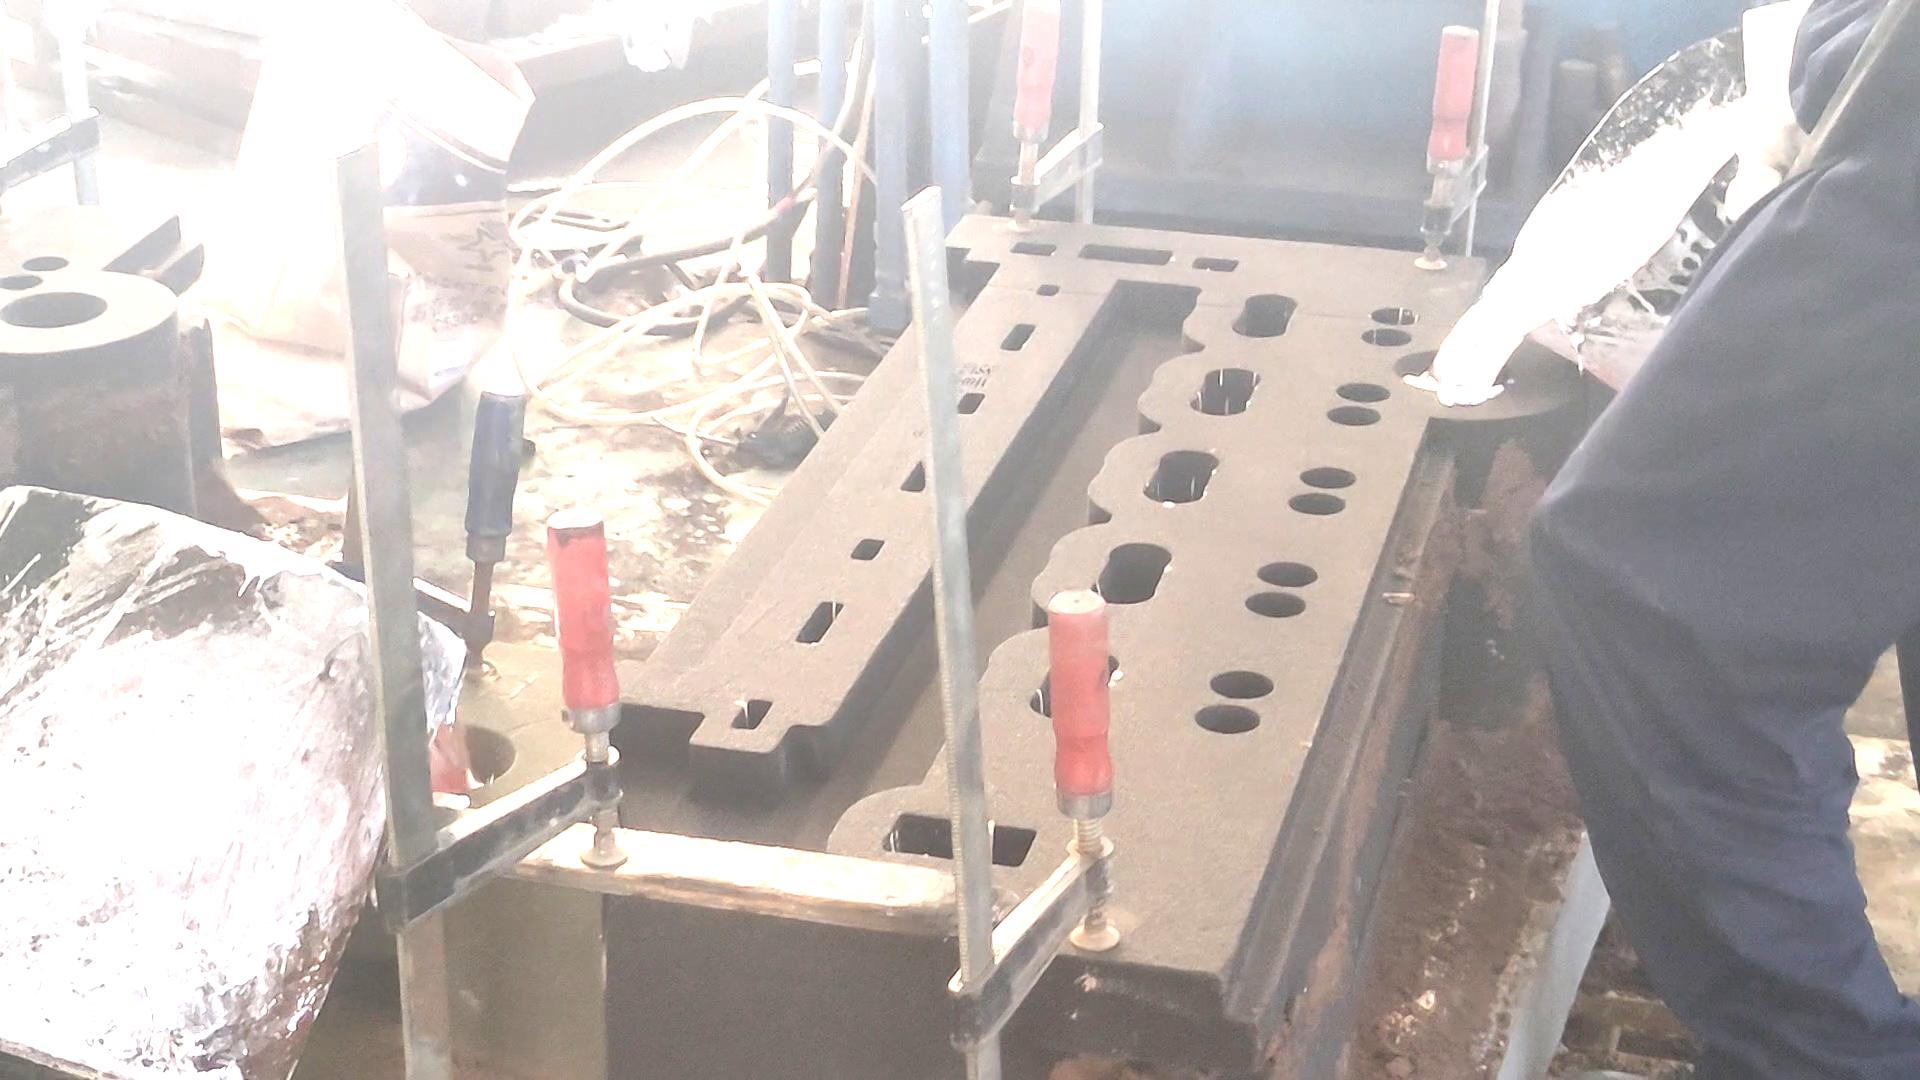pouring hole: (393, 720, 518, 790), (1393, 347, 1514, 393), (1, 289, 108, 327)
